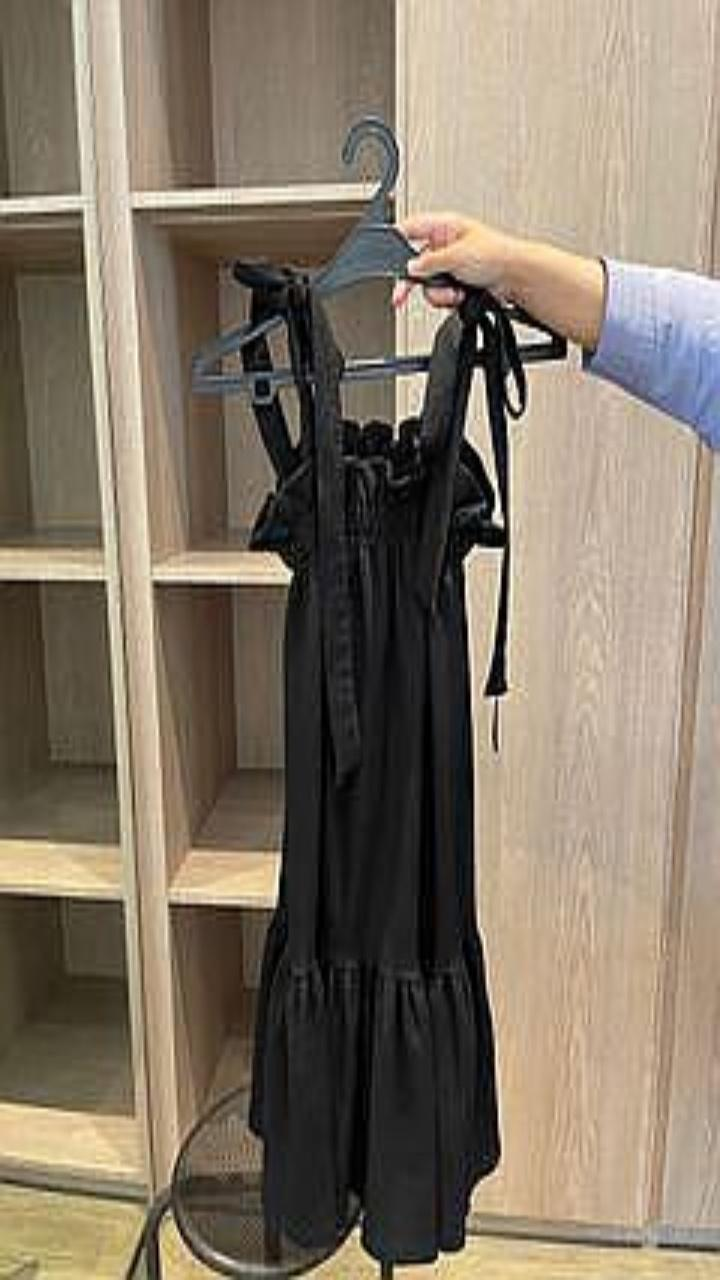Dresses: (236, 264, 524, 1262)
